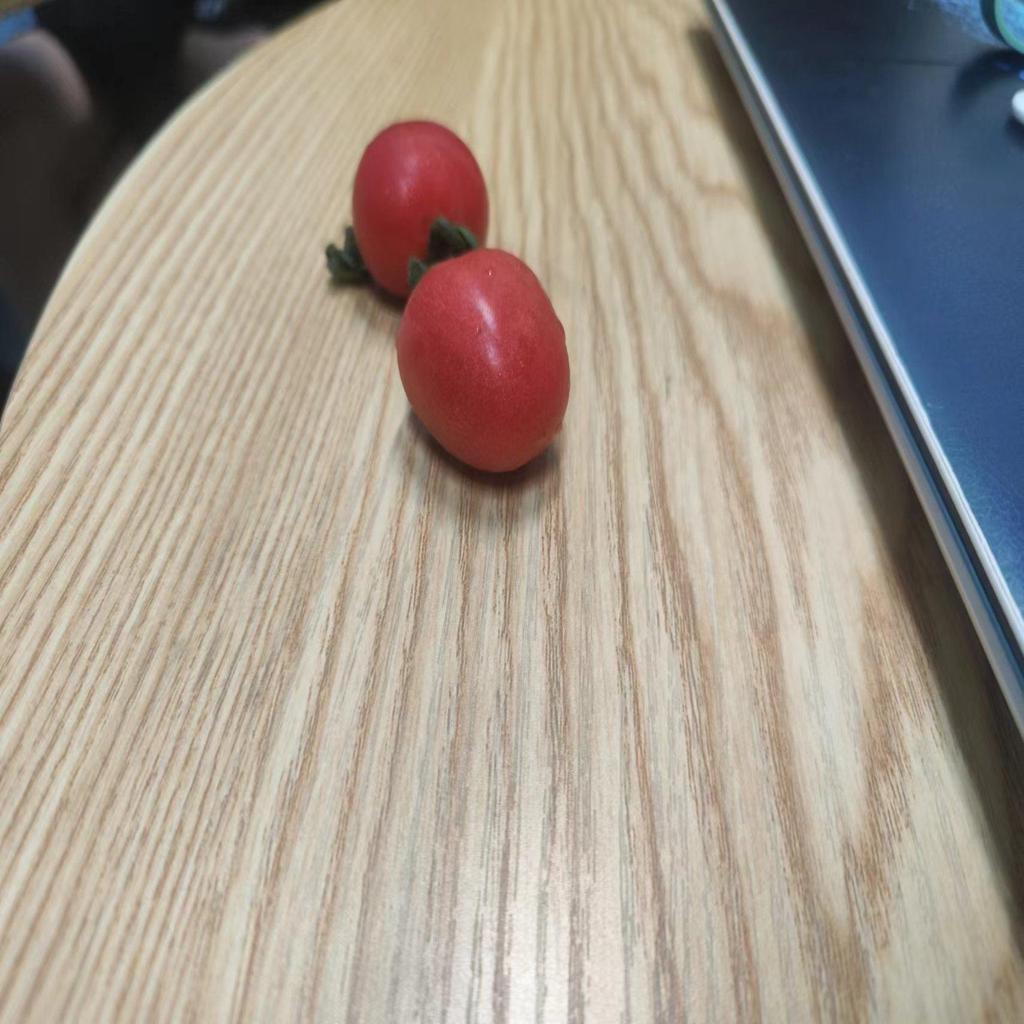tomato: (396, 241, 573, 487), (351, 122, 485, 296)
